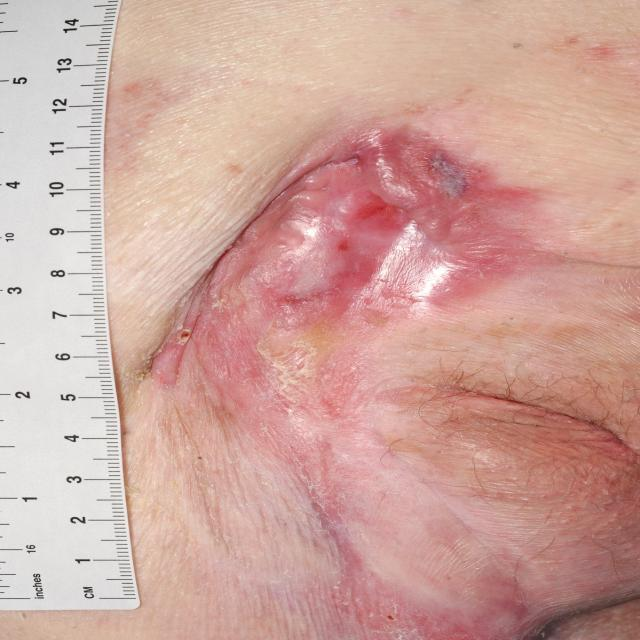wound: (102, 108, 640, 639)
